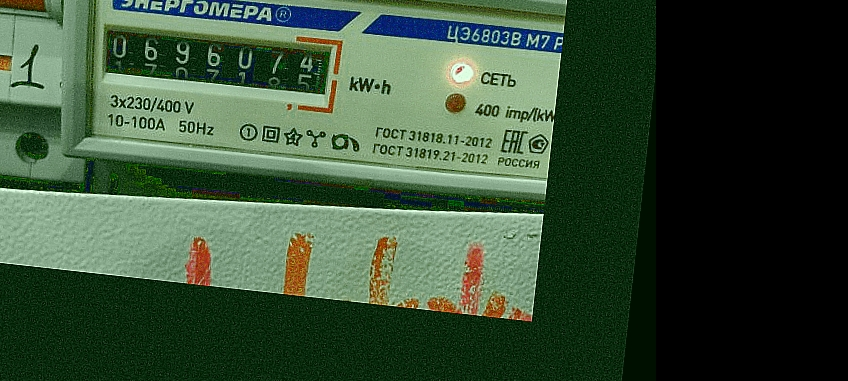0: (108, 32, 130, 59), (235, 43, 254, 71)
4: (297, 49, 315, 72)
5: (295, 72, 313, 93)
6: (203, 39, 224, 68), (140, 35, 161, 61)
7: (266, 47, 285, 75)
9: (172, 37, 191, 65)
screen: (86, 10, 347, 117)
